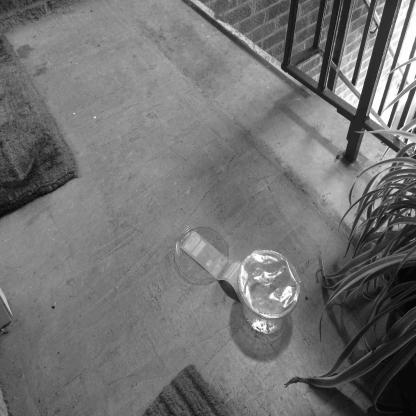plastic: (237, 245, 303, 344), (176, 224, 231, 285)
